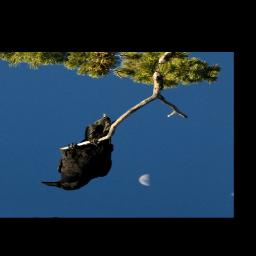Crow: (36, 107, 132, 195)
